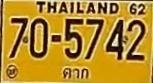0: (29, 17, 47, 57)
2: (126, 19, 144, 60)
4: (105, 19, 123, 59)
5: (64, 18, 82, 58)
7: (84, 18, 104, 58), (10, 17, 28, 57)
TAK: (59, 65, 90, 80)
